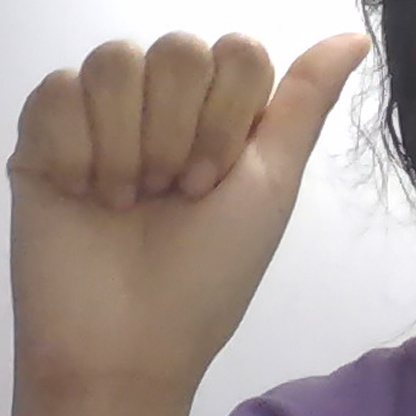A: (8, 34, 368, 390)
